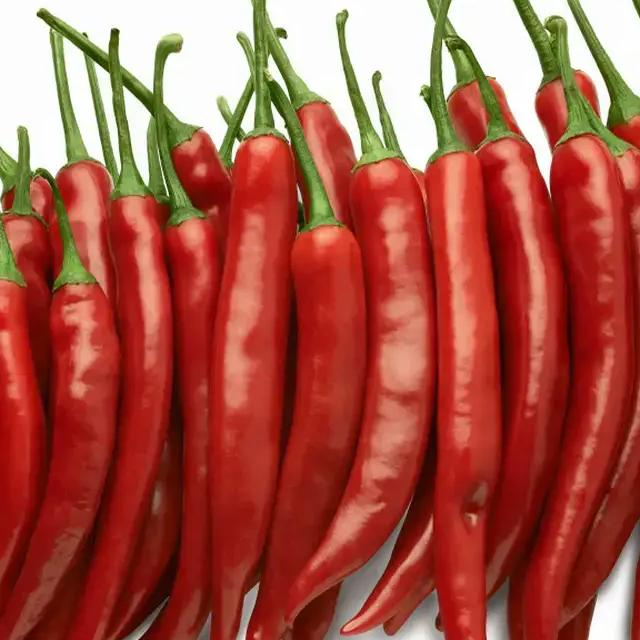chili_pepper: (525, 16, 637, 640), (247, 223, 367, 640), (426, 0, 503, 640), (209, 133, 298, 640), (0, 280, 44, 612)
